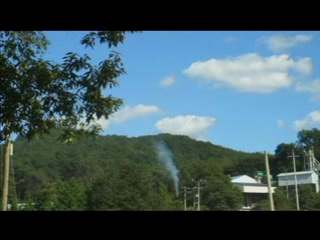smoke: (150, 140, 183, 199)
